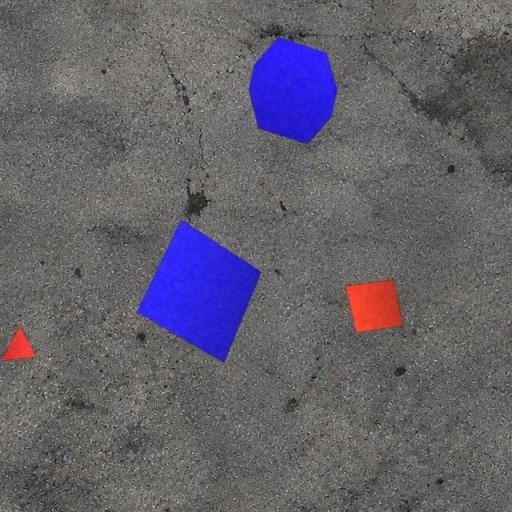BLUE_SQUARE: (136, 220, 262, 364)
RED_SQUARE: (346, 279, 403, 334)
